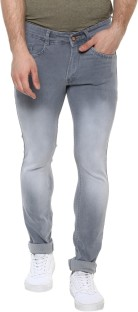Jeans: (9, 17, 129, 272)
